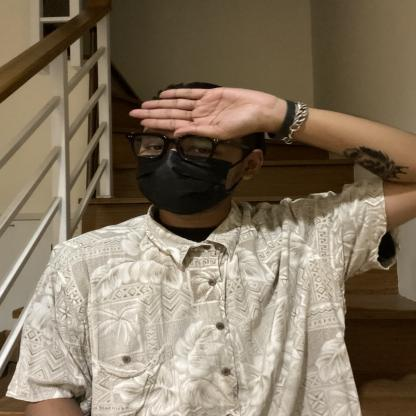Sick: (56, 65, 322, 172)
